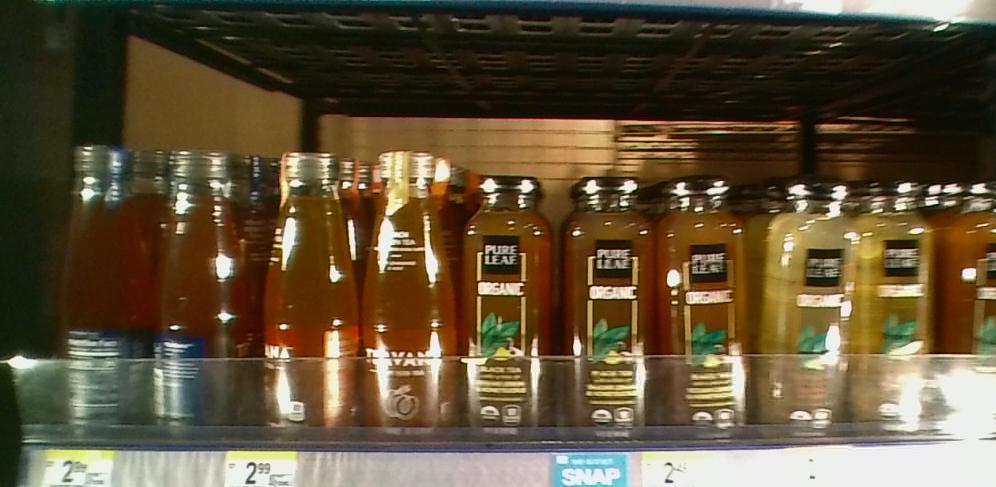bottle: (250, 149, 357, 431), (358, 145, 461, 427), (147, 147, 245, 427), (662, 163, 761, 430), (57, 138, 148, 426), (462, 163, 560, 426), (561, 172, 659, 431), (763, 180, 856, 426), (858, 180, 941, 427), (940, 178, 996, 427)
